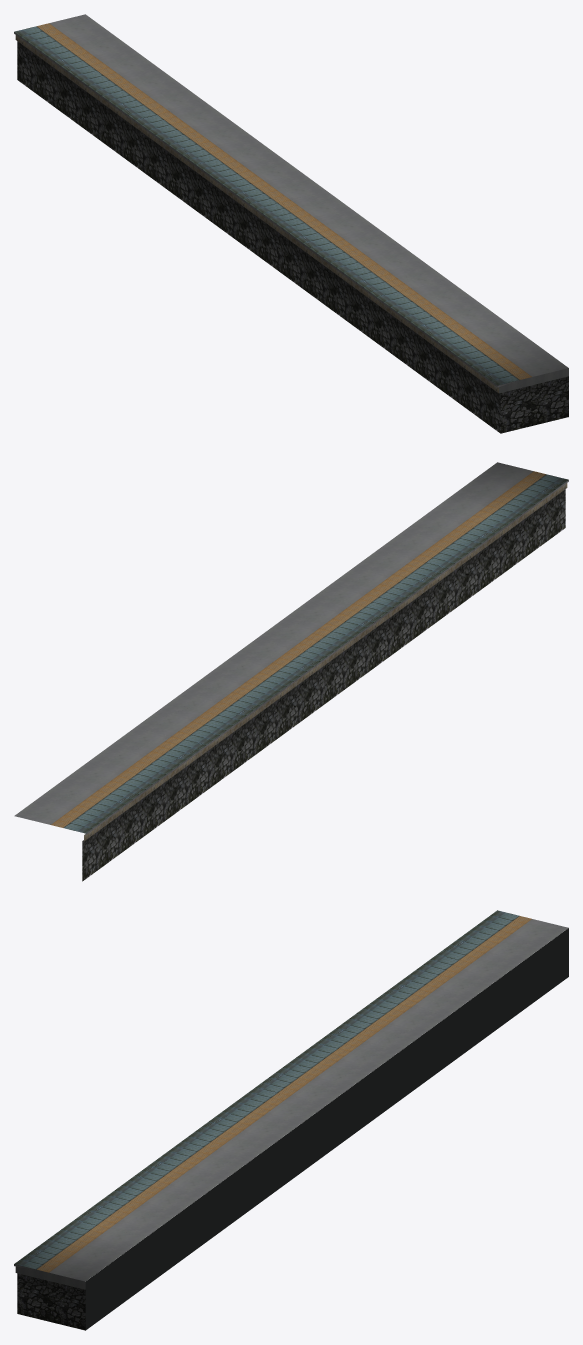
The model's file is AMB_MEI_HOME_S02.glb.
The picture shows the model from 3 angles, top to bottom: view 1: azimuth 30°, elevation 25°; view 2: azimuth 150°, elevation 25°; view 3: azimuth 330°, elevation 25°; orthographic projection.
Visible parts, largest first — view 1: Mesh2; view 2: Mesh2; view 3: Mesh2.
Boxes of the visible parts, left/top/right/bottom form: Mesh2: left=14, top=14, right=568, bottom=433; Mesh2: left=14, top=462, right=568, bottom=881; Mesh2: left=14, top=910, right=568, bottom=1330.
Bounding box in the file's own units: 8.56 × 5.59 × 100.
7 materials, 7 textured.
